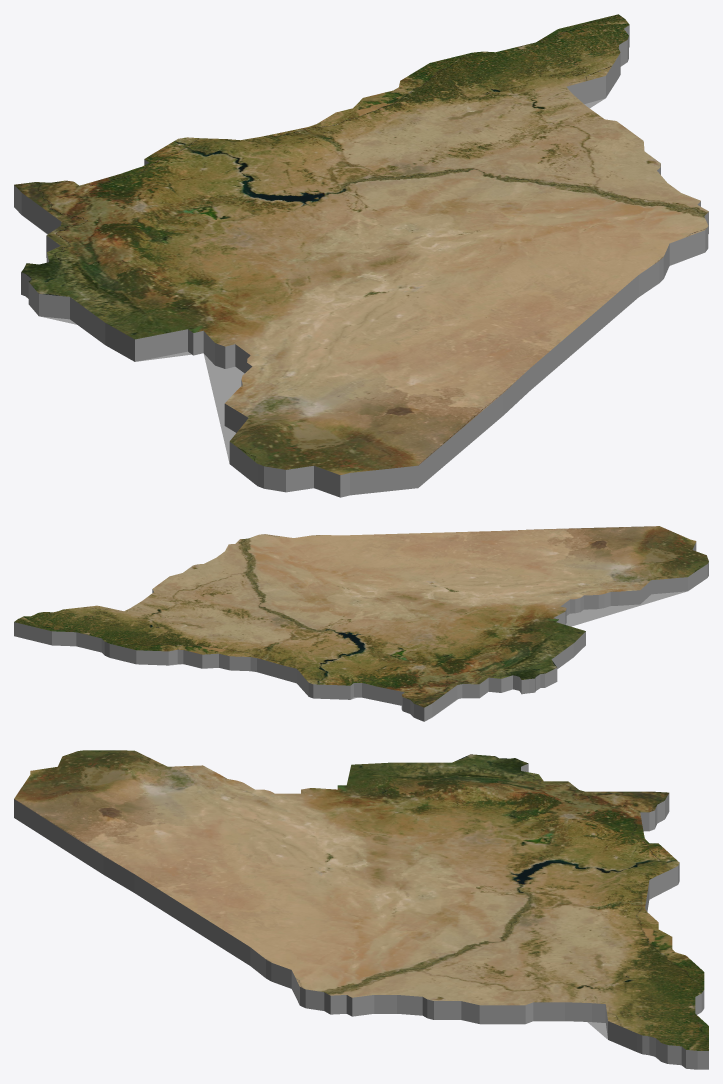
The picture shows the model from 3 angles, top to bottom: view 1: azimuth 30°, elevation 25°; view 2: azimuth 150°, elevation 25°; view 3: azimuth 270°, elevation 25°; orthographic projection. The views are drawn at different scales.
Visible parts, largest first — view 1: Syria; view 2: Syria; view 3: Syria.
Part boxes in pixels (bbox=[...]): Syria: bbox=[14, 14, 708, 497]; Syria: bbox=[14, 526, 708, 721]; Syria: bbox=[14, 750, 708, 1069].
Size of the model in its own units: 25.08 by 0.9844 by 24.5.
Materials: 2 (1 with a texture image).
